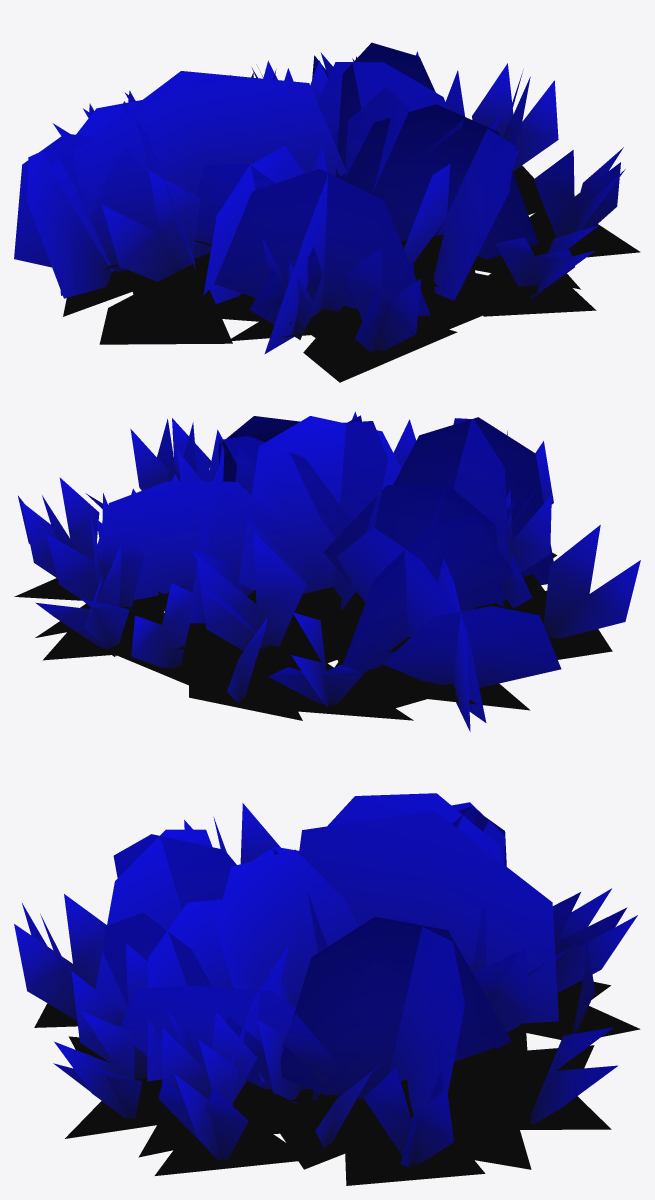
The model's file is SM_WildGrass_S_01.fbx.
The picture shows the model from 3 angles, top to bottom: view 1: azimuth 30°, elevation 25°; view 2: azimuth 150°, elevation 25°; view 3: azimuth 270°, elevation 25°; orthographic projection. The views are drawn at different scales.
Parts seen in each view (by area): view 1: SM_WildGrass_S_01; view 2: SM_WildGrass_S_01; view 3: SM_WildGrass_S_01.
Boxes of the visible parts, left/top/right/bottom form: SM_WildGrass_S_01: left=14, top=42, right=640, bottom=382; SM_WildGrass_S_01: left=14, top=411, right=640, bottom=731; SM_WildGrass_S_01: left=14, top=793, right=640, bottom=1185.
Size of the model in its own units: 147 by 133 by 62.09.
